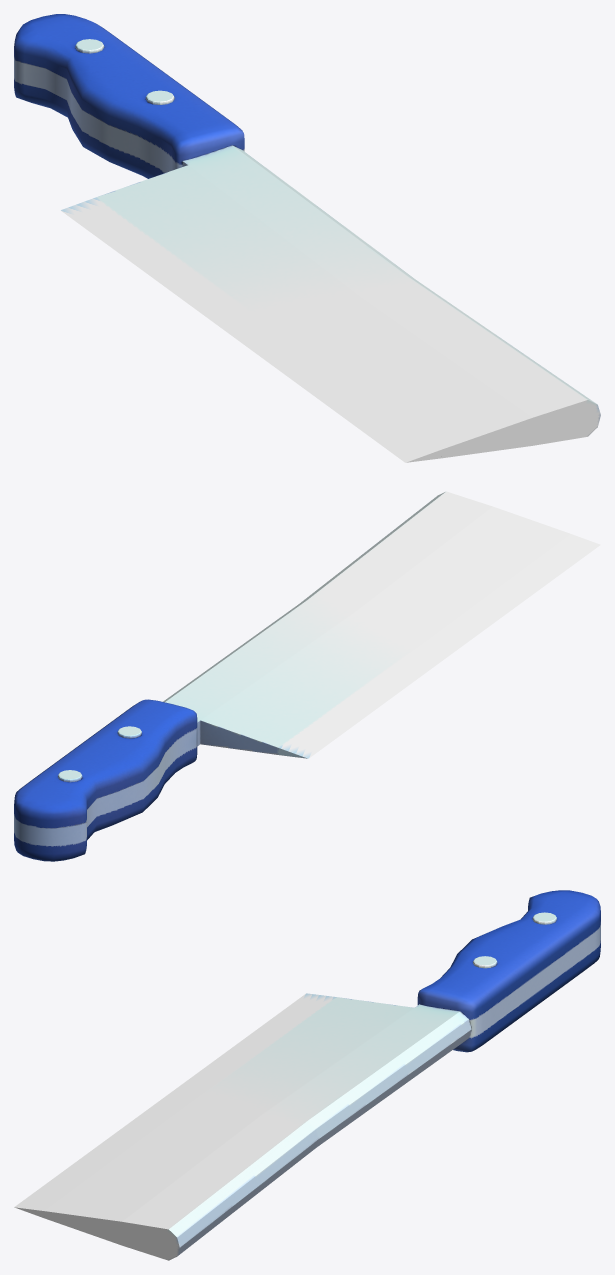
File: Cleaver.fbx
3 views of the same model, one above another, from view 1: azimuth 30°, elevation 25°; view 2: azimuth 150°, elevation 25°; view 3: azimuth 330°, elevation 25° (orthographic). The views are drawn at different scales.
Parts seen in each view (by area): view 1: Knife.004, Knife.005; view 2: Knife.004, Knife.005; view 3: Knife.004, Knife.005.
Boxes of the visible parts, x1,y1,x2,y2 form: Knife.004: [61, 145, 600, 462]; Knife.005: [14, 14, 244, 178]; Knife.004: [163, 491, 600, 758]; Knife.005: [14, 699, 197, 861]; Knife.004: [14, 993, 471, 1260]; Knife.005: [417, 890, 600, 1052].
Bounding box in the file's own units: 0.1231 × 0.0429 × 0.5657.
Materials: 1 (1 with a texture image).
